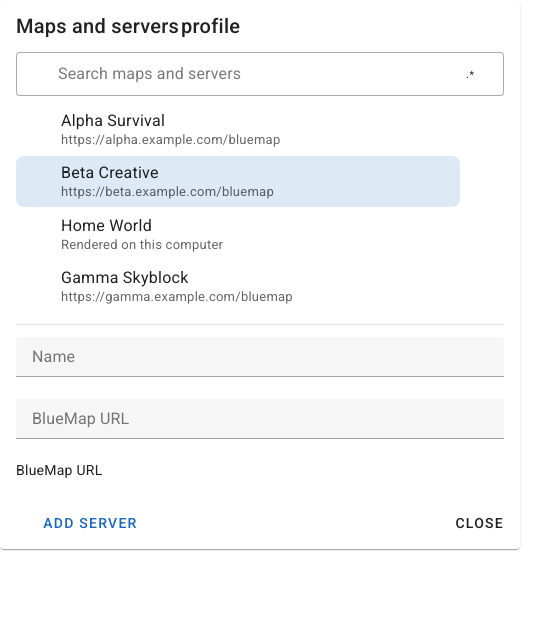
Scenario: adding a server › still adds the typed address, opens it, and closes the card
This screenshot has width=538, height=620.
Type "Delta Hardcore" into the field labelled "Name". click: (260, 357)
box: [16, 337, 504, 377]
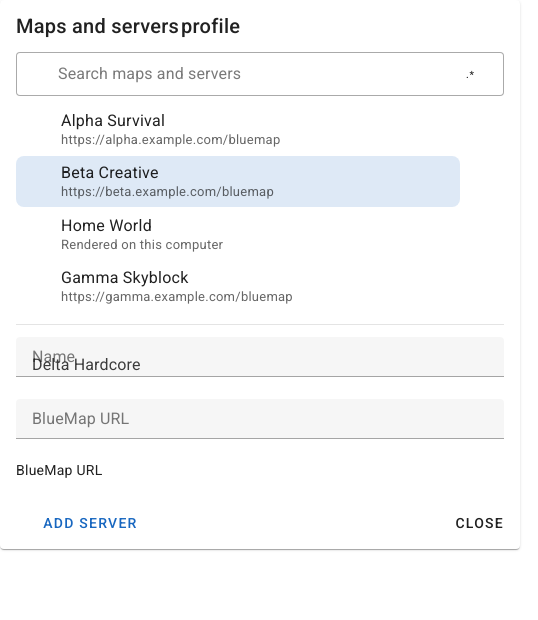
Type "https://delta.example.com/bluemap" into the field labelled "BlueMap URL". click: (260, 419)
box: [16, 399, 504, 439]
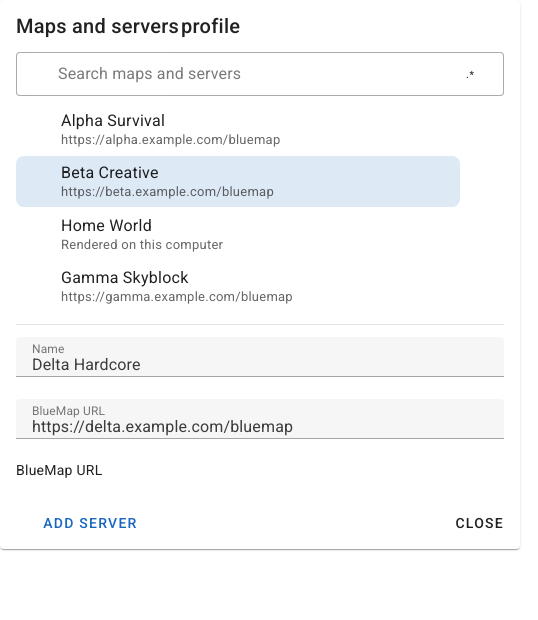
Click the button "Add server". click: (77, 523)
box: [8, 505, 146, 541]
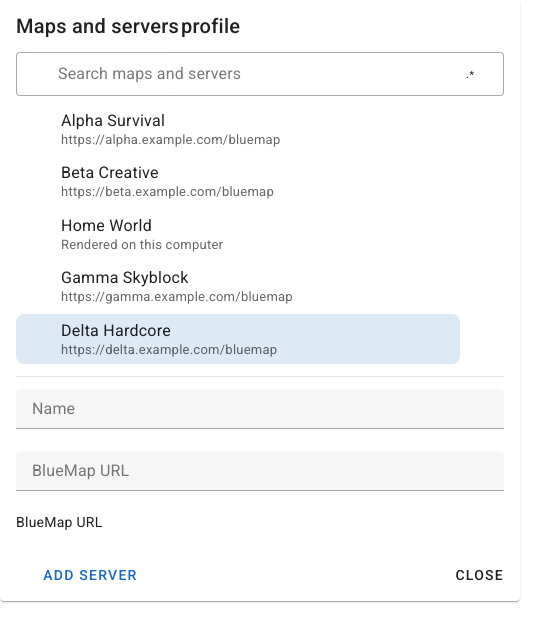
Expected: the text "https://delta.example.com/bluemap" is shown, [61, 342, 277, 358]
